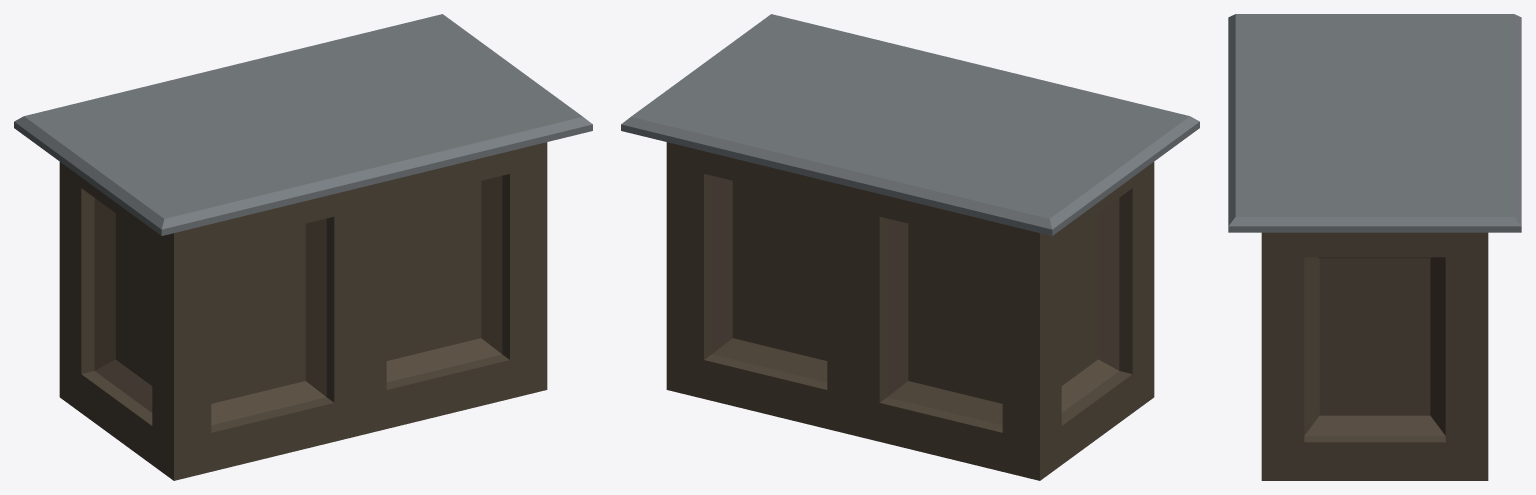
File: WM_Table2.fbx
3 views of the same model, side by side, from view 1: azimuth 30°, elevation 25°; view 2: azimuth 150°, elevation 25°; view 3: azimuth 270°, elevation 25° (orthographic).
Parts seen in each view (by area): view 1: pCube26; view 2: pCube26; view 3: pCube26.
Boxes of the visible parts, x1=… form: pCube26: x1=14, y1=14, x2=592, y2=480; pCube26: x1=621, y1=14, x2=1199, y2=480; pCube26: x1=1228, y1=14, x2=1521, y2=480.
Size of the model in its own units: 9.26 by 5.69 by 5.49.
